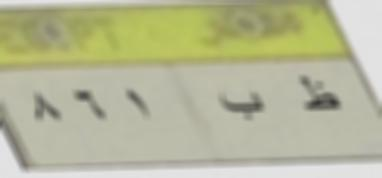1: (127, 82, 150, 124)
6: (68, 86, 109, 126)
8: (28, 88, 62, 130)
Thaa: (292, 72, 342, 119)
baa: (217, 83, 267, 124)
